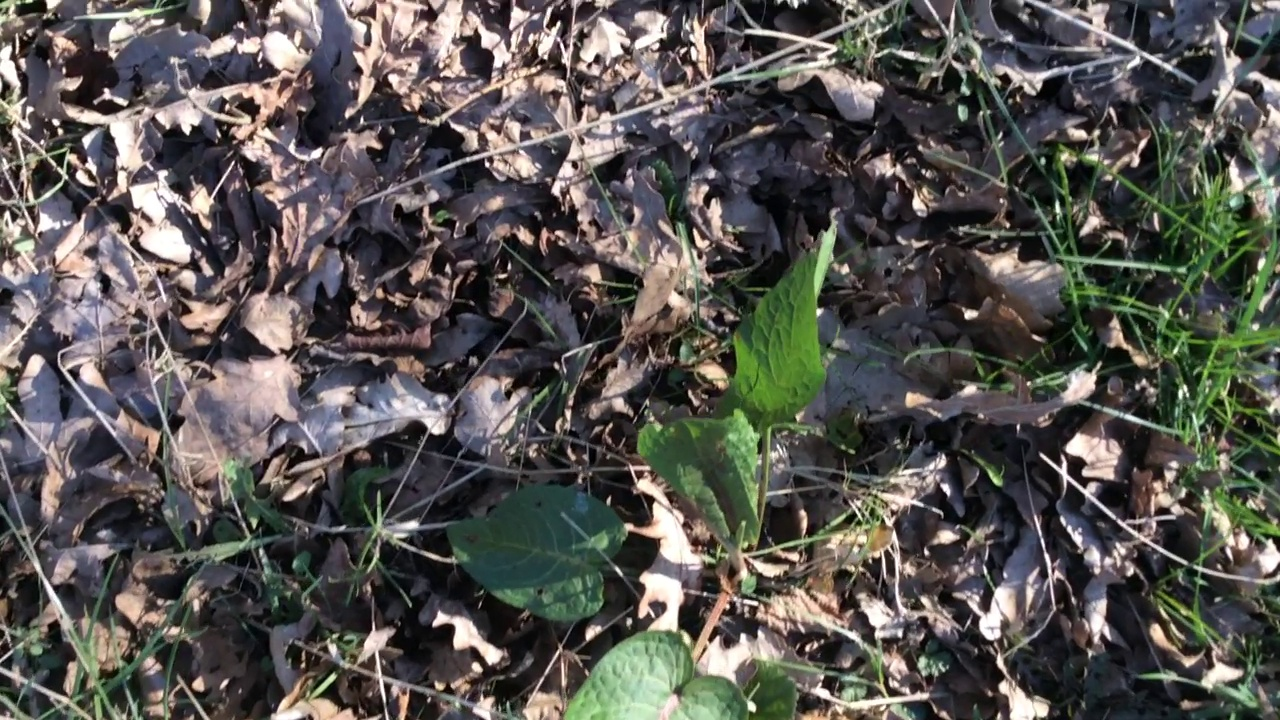rumex: (446, 223, 839, 720)
